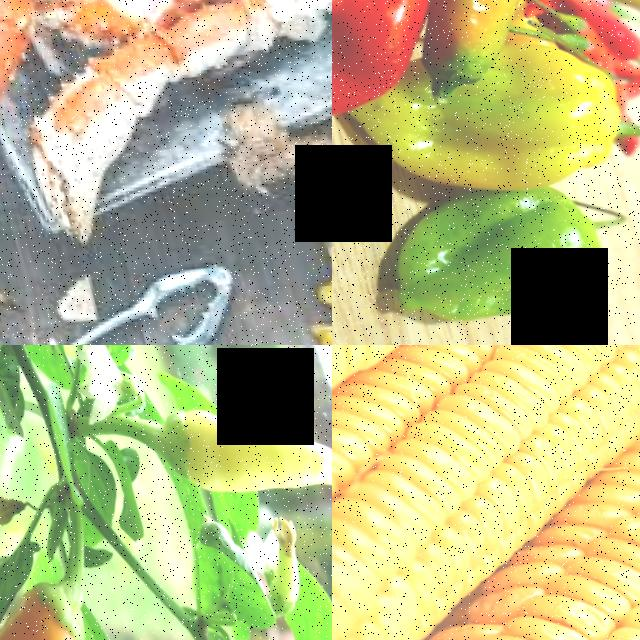chilli: (143, 356, 332, 523)
corn: (332, 345, 640, 640)
crab: (0, 0, 332, 112), (0, 45, 55, 303)
